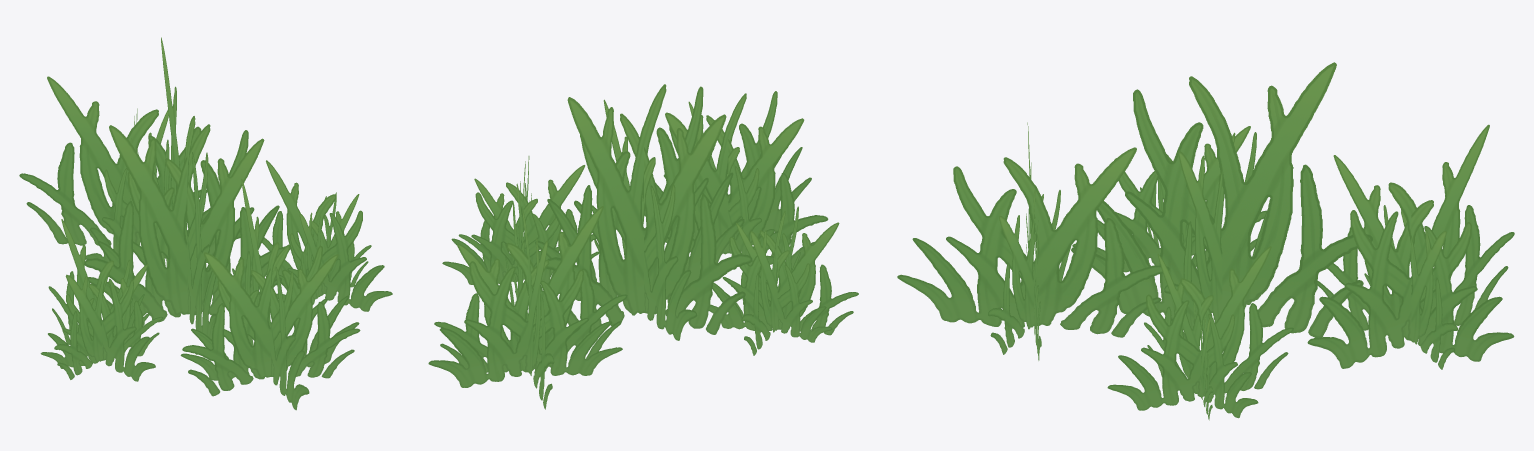
File: grassCard_2.fbx
3 views of the same model, side by side, from view 1: azimuth 30°, elevation 25°; view 2: azimuth 150°, elevation 25°; view 3: azimuth 270°, elevation 25° (orthographic). The views are drawn at different scales.
Visible parts, largest first — view 1: grassCard, grassCard.004, grassCard.003, grassCard.006, grassCard.005; view 2: grassCard, grassCard.003, grassCard.004, grassCard.006, grassCard.005; view 3: grassCard, grassCard.003, grassCard.004, grassCard.005, grassCard.006.
Part boxes in pixels (x1=…): grassCard: x1=84, y1=37, x2=291, y2=339; grassCard.004: x1=180, y1=179, x2=360, y2=410; grassCard.003: x1=19, y1=76, x2=240, y2=262; grassCard.006: x1=40, y1=219, x2=163, y2=381; grassCard.005: x1=259, y1=160, x2=392, y2=311; grassCard: x1=535, y1=84, x2=752, y2=340; grassCard.003: x1=428, y1=203, x2=627, y2=409; grassCard.004: x1=644, y1=91, x2=828, y2=270; grassCard.006: x1=709, y1=206, x2=858, y2=355; grassCard.005: x1=442, y1=156, x2=599, y2=293; grassCard: x1=1071, y1=62, x2=1372, y2=339; grassCard.003: x1=1307, y1=124, x2=1514, y2=369; grassCard.004: x1=897, y1=122, x2=1169, y2=360; grassCard.005: x1=1107, y1=246, x2=1293, y2=420; grassCard.006: x1=1072, y1=126, x2=1266, y2=272.
Size of the model in its own units: 115 by 79.65 by 153.
Materials: 1 (1 with a texture image).
